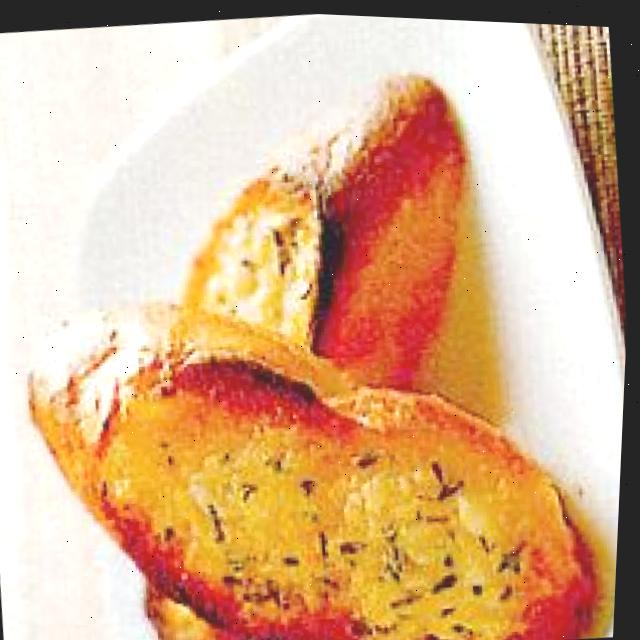面包点心: (0, 75, 637, 640)
